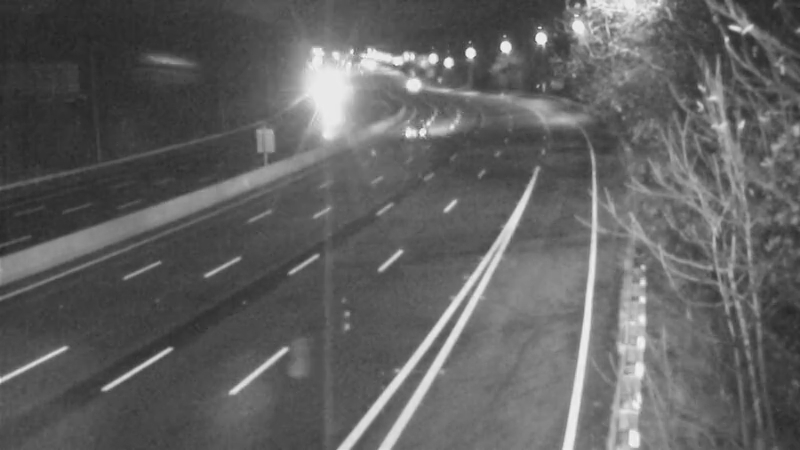vehicle: (382, 60, 432, 110), (391, 107, 441, 157), (302, 73, 352, 123)
